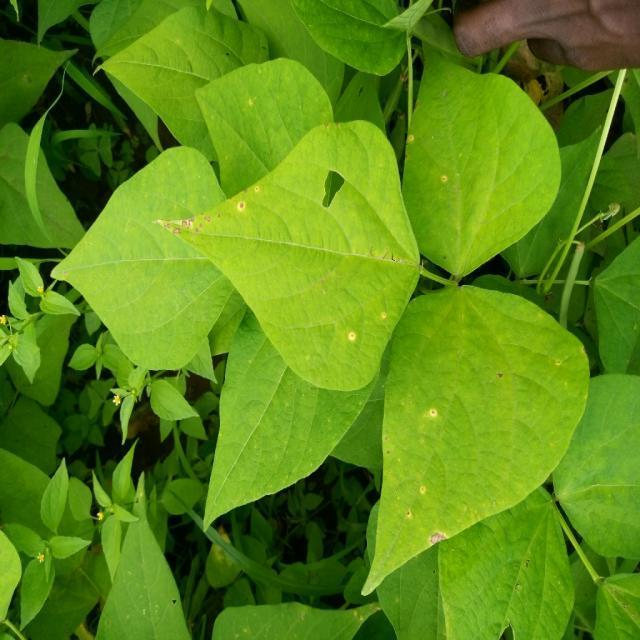hawar: (107, 171, 288, 291), (374, 109, 483, 214), (323, 286, 417, 367), (291, 159, 371, 232), (409, 394, 474, 447)
